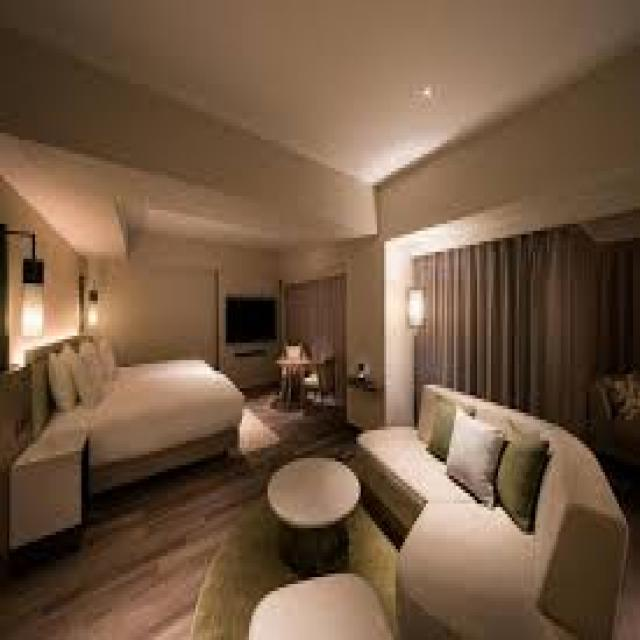Sofa: (359, 379, 632, 640)
Table: (261, 452, 363, 562)
tv: (224, 294, 277, 348)
